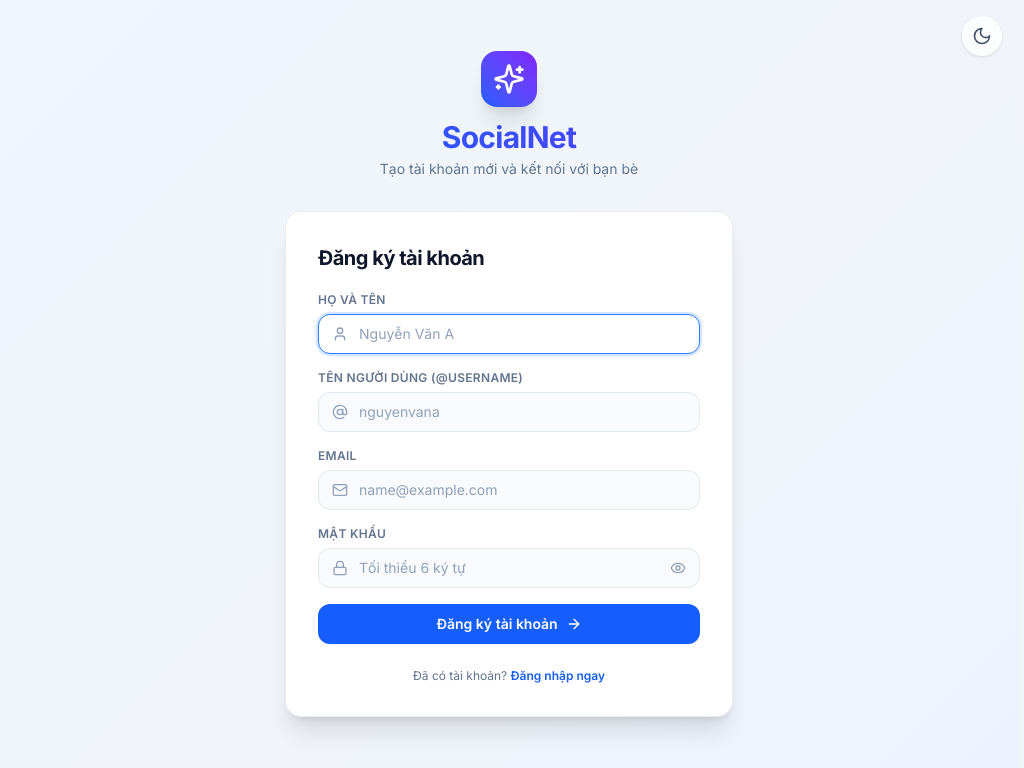
Test case: Đăng ký › username tự chuyển chữ thường và bỏ khoảng trắng khi gõ
Type "Nguyen Van A" into the field labelled "Tên người dùng (@username)" at (509, 412), box [318,392,700,432]
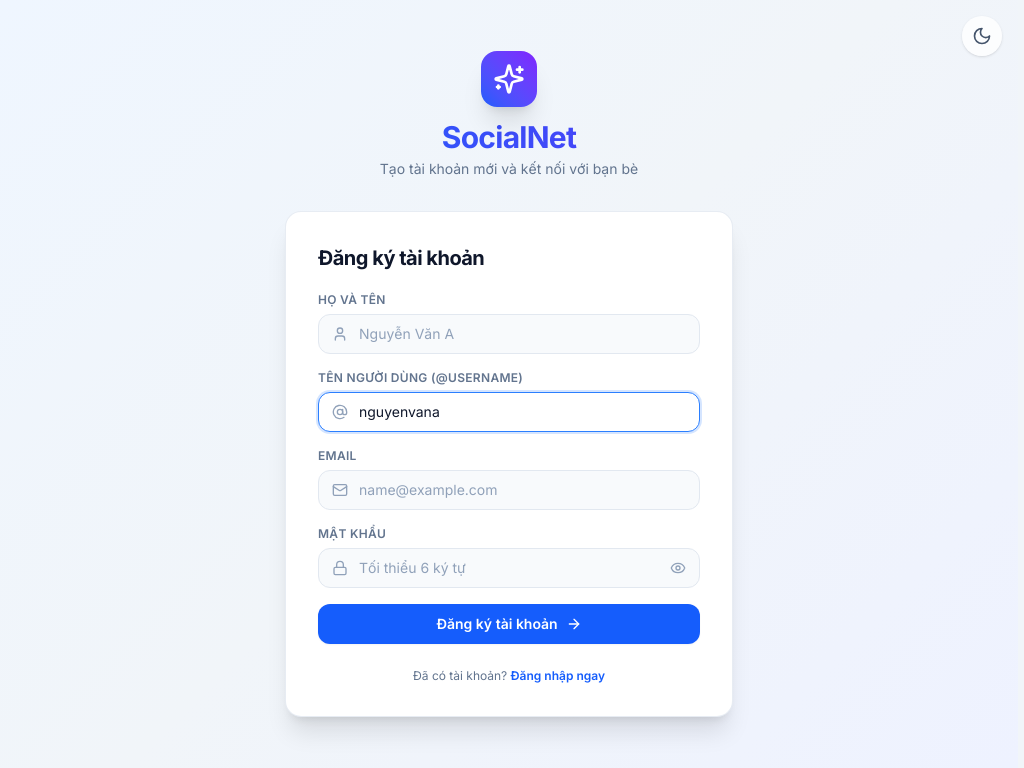
expect the field labelled "Tên người dùng (@username)" holds "nguyenvana": met, box [318,392,700,432]
